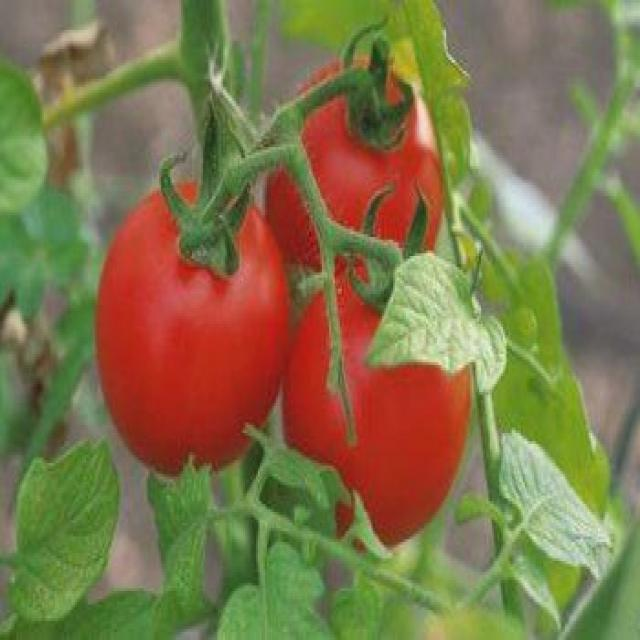level 6: (94, 179, 290, 479), (284, 257, 471, 549), (266, 60, 443, 313)
